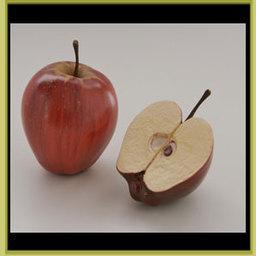apple: (18, 53, 120, 177)
